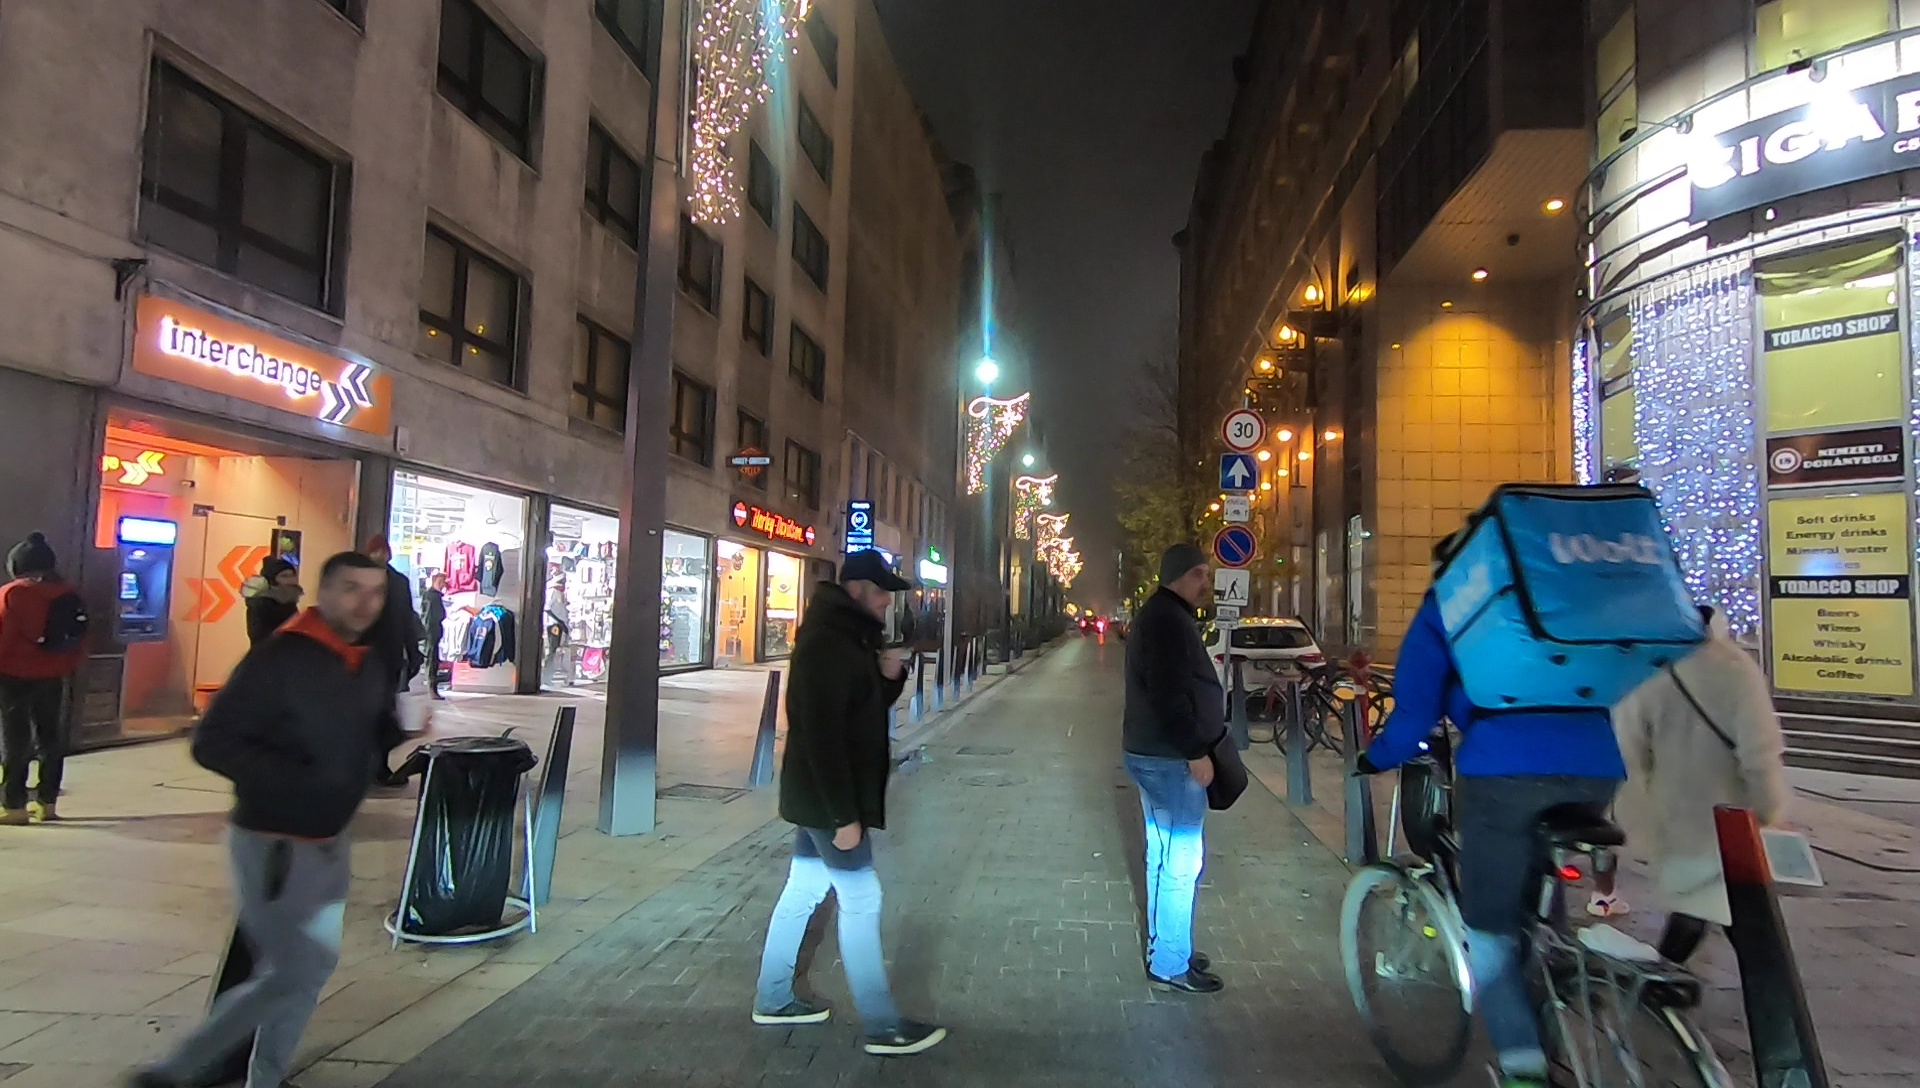person: (171, 552, 394, 1088), (749, 545, 938, 1061), (1639, 582, 1821, 989), (1128, 541, 1225, 997), (2, 534, 75, 823), (236, 552, 310, 752)
